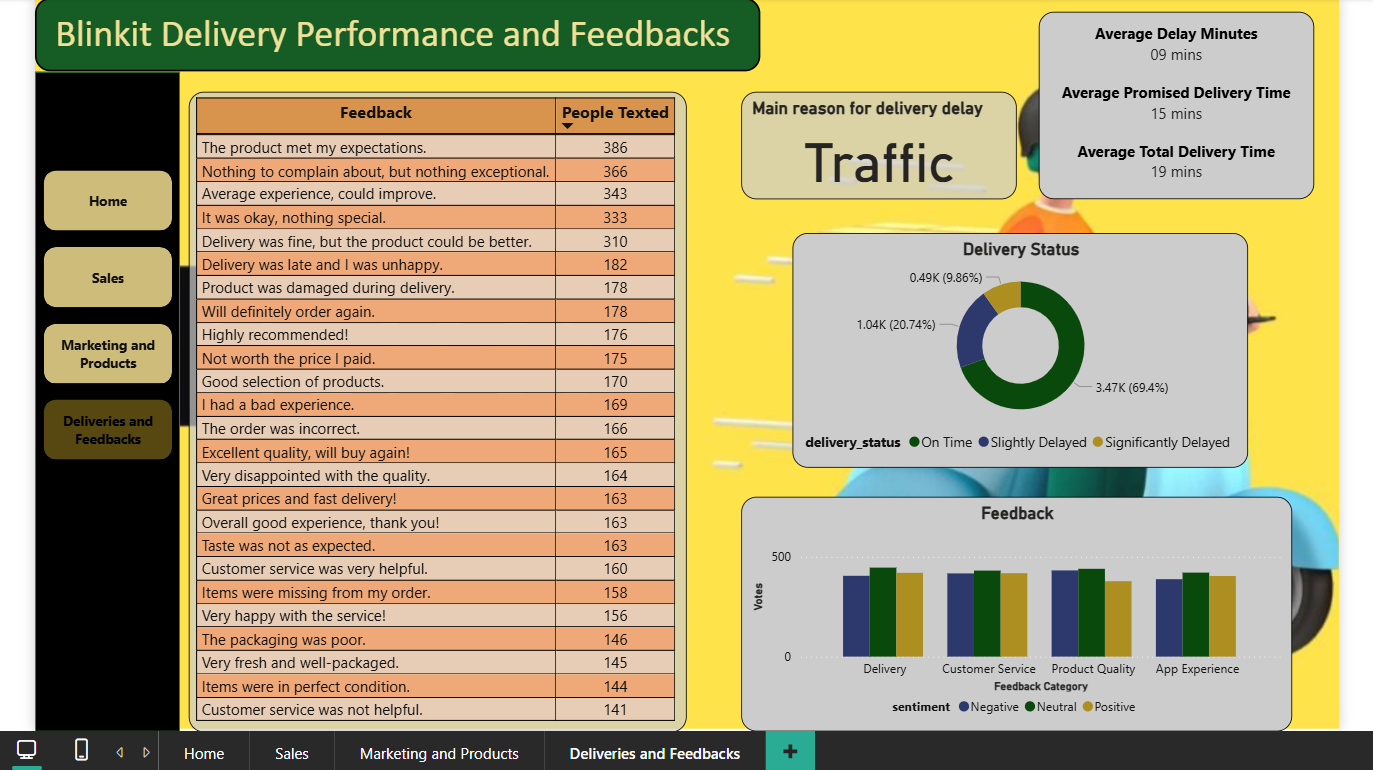

Layout of this report page (visuals, bound fields, positions):
{"tool":"powerbi","page":{"name":"Deliveries and Feedbacks","canvas":[1280,720],"ordinal":3},"visuals":[{"type":"donutChart","title":"Delivery Status","fields":{"Category":["blinkit_project_files blinkit_delivery_performance.delivery_status"],"Y":["Count(blinkit_project_files blinkit_delivery_performance.order_id)"]},"box":[743.7,230.5,447.3,230.5],"z":0},{"type":"textbox","box":[0,0,711.7,72.4],"z":3},{"type":"shape","box":[0,72.4,142.3,647.9],"z":4},{"type":"textbox","box":[985.3,13.7,270.3,183.9],"z":6},{"type":"clusteredColumnChart","title":"Feedback","fields":{"Category":["blinkit_project_files blinkit_customer_feedback.feedback_category"],"Y":["Count(blinkit_project_files blinkit_customer_feedback.order_id)"],"Series":["blinkit_project_files blinkit_customer_feedback.sentiment"]},"box":[693,489.9,540.7,230.5],"z":7},{"type":"tableEx","title":"Sales by Area","fields":{"Values":["blinkit_project_files blinkit_customer_feedback.feedback_text","blinkit_project_files blinkit_orders.order_id"]},"box":[150.9,91.9,488.5,628.5],"z":9},{"type":"card","title":"Main reason for delivery delay","fields":{"Values":["Max(blinkit_project_files blinkit_delivery_performance.reasons_if_delayed)"]},"box":[693,91.9,270.3,105.7],"z":10},{"type":"pageNavigator","box":[8.6,169.3,126.4,287.1],"z":11}]}

Visuals, with their boxes on the page's 1280x720 design canvas (x1, y1, x2, y2). These are canvas units, not pixel positions in the 1373x770 screenshot, which may show the page scaled, cropped or inside an application window:
"Delivery Status" donutChart: {"left": 744, "top": 230, "right": 1191, "bottom": 461}
textbox: {"left": 0, "top": 0, "right": 712, "bottom": 72}
shape: {"left": 0, "top": 72, "right": 142, "bottom": 720}
textbox: {"left": 985, "top": 14, "right": 1256, "bottom": 198}
"Feedback" clusteredColumnChart: {"left": 693, "top": 490, "right": 1234, "bottom": 720}
"Sales by Area" tableEx: {"left": 151, "top": 92, "right": 639, "bottom": 720}
"Main reason for delivery delay" card: {"left": 693, "top": 92, "right": 963, "bottom": 198}
pageNavigator: {"left": 9, "top": 169, "right": 135, "bottom": 456}
